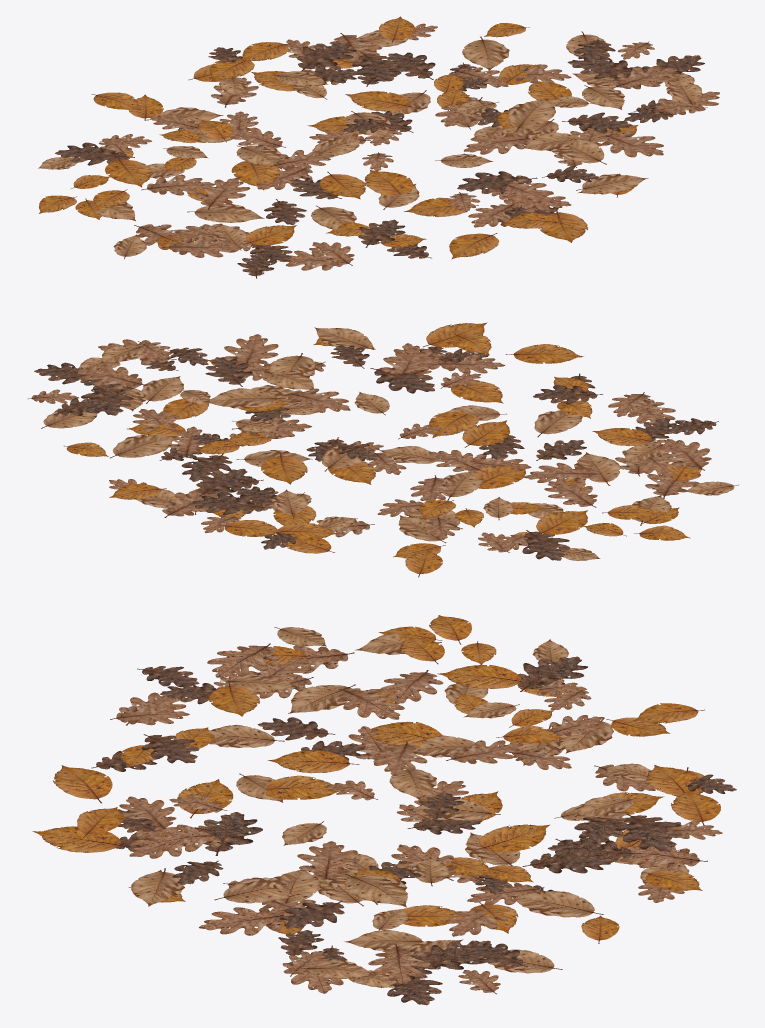
File: Mixed_LeafLitter_Patch_01_LOD1.fbx
The picture shows the model from 3 angles, top to bottom: view 1: azimuth 30°, elevation 25°; view 2: azimuth 150°, elevation 25°; view 3: azimuth 270°, elevation 25°; orthographic projection. The views are drawn at different scales.
Parts seen in each view (by area): view 1: Mixed_LeafLitter_Patch_01_LOD1_Mesh; view 2: Mixed_LeafLitter_Patch_01_LOD1_Mesh; view 3: Mixed_LeafLitter_Patch_01_LOD1_Mesh.
Boxes of the visible parts, x1,y1,x2,y2 form: Mixed_LeafLitter_Patch_01_LOD1_Mesh: [38, 16, 719, 278]; Mixed_LeafLitter_Patch_01_LOD1_Mesh: [28, 322, 738, 577]; Mixed_LeafLitter_Patch_01_LOD1_Mesh: [32, 615, 736, 1005].
Bounding box in the file's own units: 148 × 2.04 × 113.
1 material, 1 textured.
